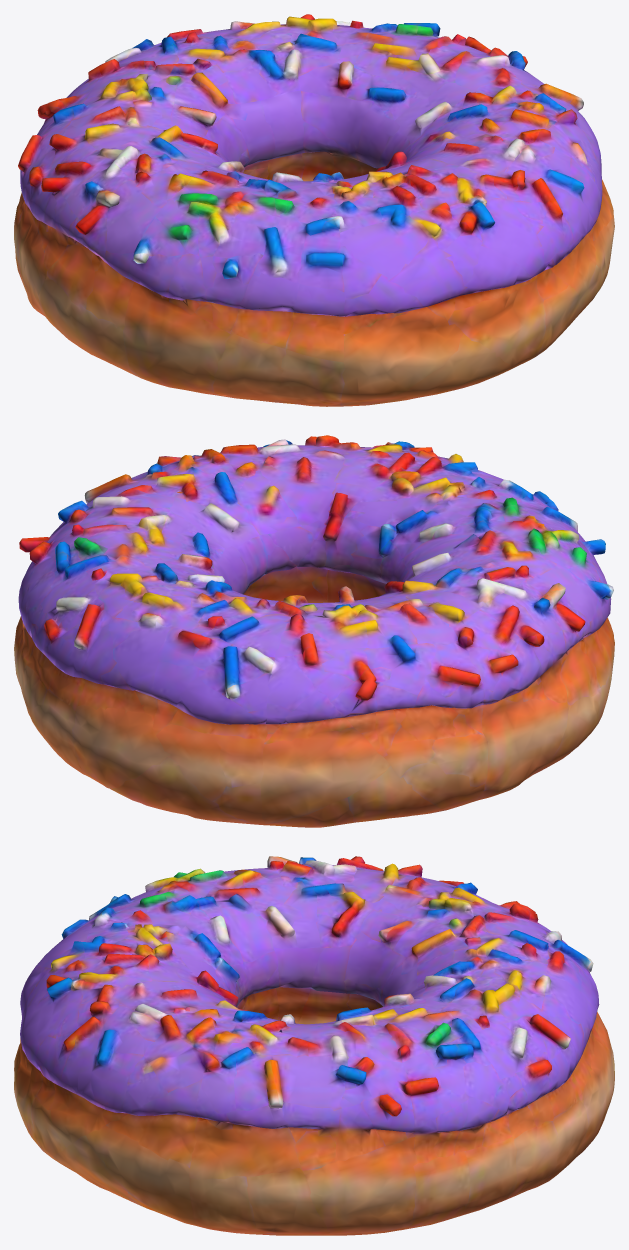
The picture shows the model from 3 angles, top to bottom: view 1: azimuth 30°, elevation 25°; view 2: azimuth 150°, elevation 25°; view 3: azimuth 270°, elevation 25°; orthographic projection. The views are drawn at different scales.
Size of the model in its own units: 1.88 by 0.672 by 1.89.
Materials: 1 (1 with a texture image).
